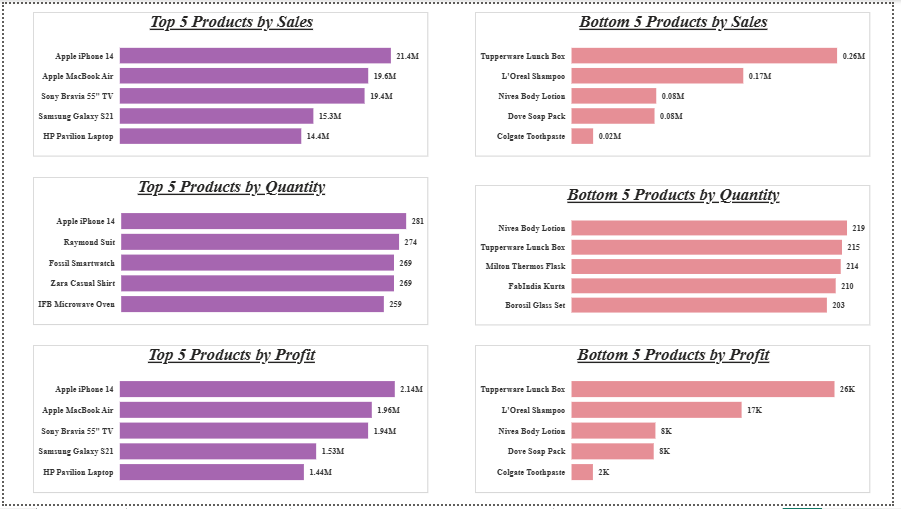

Layout of this report page (visuals, bound fields, positions):
{"tool":"powerbi","page":{"name":"Top/Bottom 5 Analysis","canvas":[1280,720],"ordinal":1},"visuals":[{"type":"barChart","title":"Top 5 Products by Sales","fields":{"Category":["Dim Product.Product Name"],"Y":["Sum(Fact Table.Net Sales)"]},"box":[42,11.8,569.4,208.3],"z":0},{"type":"barChart","title":"Bottom 5 Products by Sales","fields":{"Category":["Dim Product.Product Name"],"Y":["Sum(Fact Table.Net Sales)"]},"box":[678.6,11.8,569.4,208.3],"z":1000},{"type":"barChart","title":"Top 5 Products by Quantity","fields":{"Category":["Dim Product.Product Name"],"Y":["Sum(Fact Table.Units Sold)"]},"box":[42,248.6,569.4,213.3],"z":2000},{"type":"barChart","title":"Bottom 5 Products by Quantity","fields":{"Category":["Dim Product.Product Name"],"Y":["Sum(Fact Table.Units Sold)"]},"box":[678.6,260.4,569.4,201.6],"z":3000},{"type":"barChart","title":"Top 5 Products by Profit","fields":{"Category":["Dim Product.Product Name"],"Y":["Sum(Fact Table.Profit)"]},"box":[42,490.5,569.4,213.3],"z":4000},{"type":"barChart","title":"Bottom 5 Products by Profit","fields":{"Category":["Dim Product.Product Name"],"Y":["Sum(Fact Table.Profit)"]},"box":[678.6,490.5,569.4,213.3],"z":5000}]}

Visuals, with their boxes in screenshot pixels (x1, y1, x2, y2), scaled from the page's 1280x720 canvas onto the 901x509 screenshot:
"Top 5 Products by Sales" barChart: [left=30, top=8, right=430, bottom=156]
"Bottom 5 Products by Sales" barChart: [left=478, top=8, right=878, bottom=156]
"Top 5 Products by Quantity" barChart: [left=30, top=176, right=430, bottom=327]
"Bottom 5 Products by Quantity" barChart: [left=478, top=184, right=878, bottom=327]
"Top 5 Products by Profit" barChart: [left=30, top=347, right=430, bottom=498]
"Bottom 5 Products by Profit" barChart: [left=478, top=347, right=878, bottom=498]
